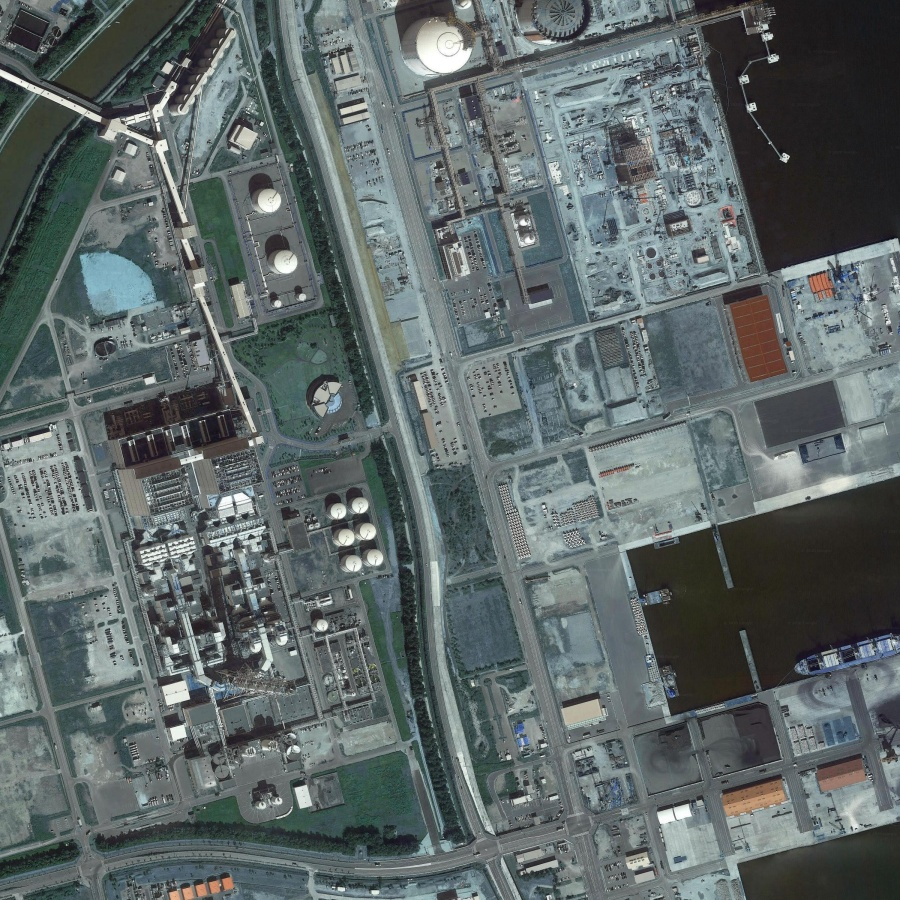PowerPlant: (115, 423, 395, 813)
